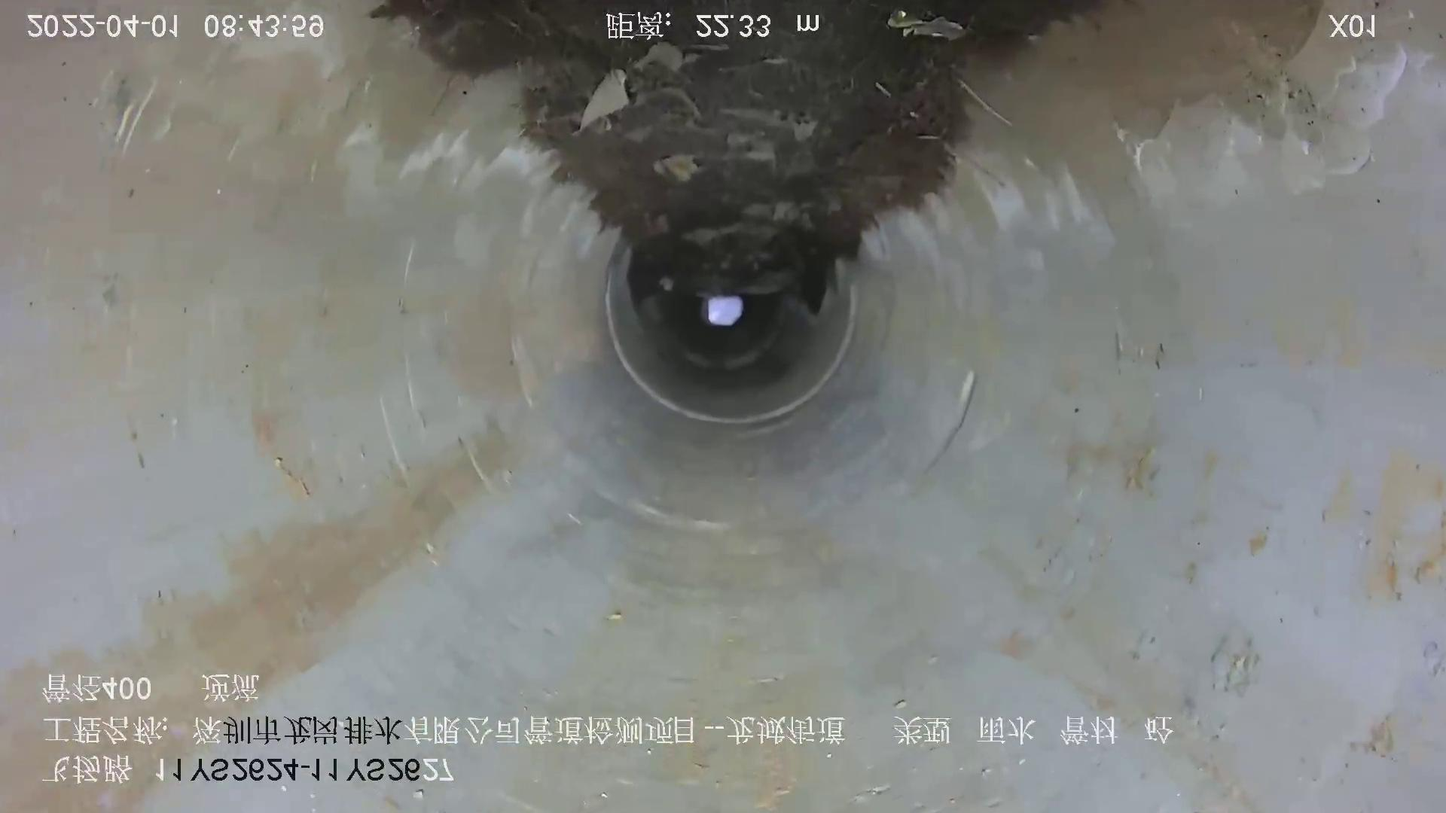CJ: (375, 1, 1097, 304)
CKTJ: (596, 234, 867, 430)
